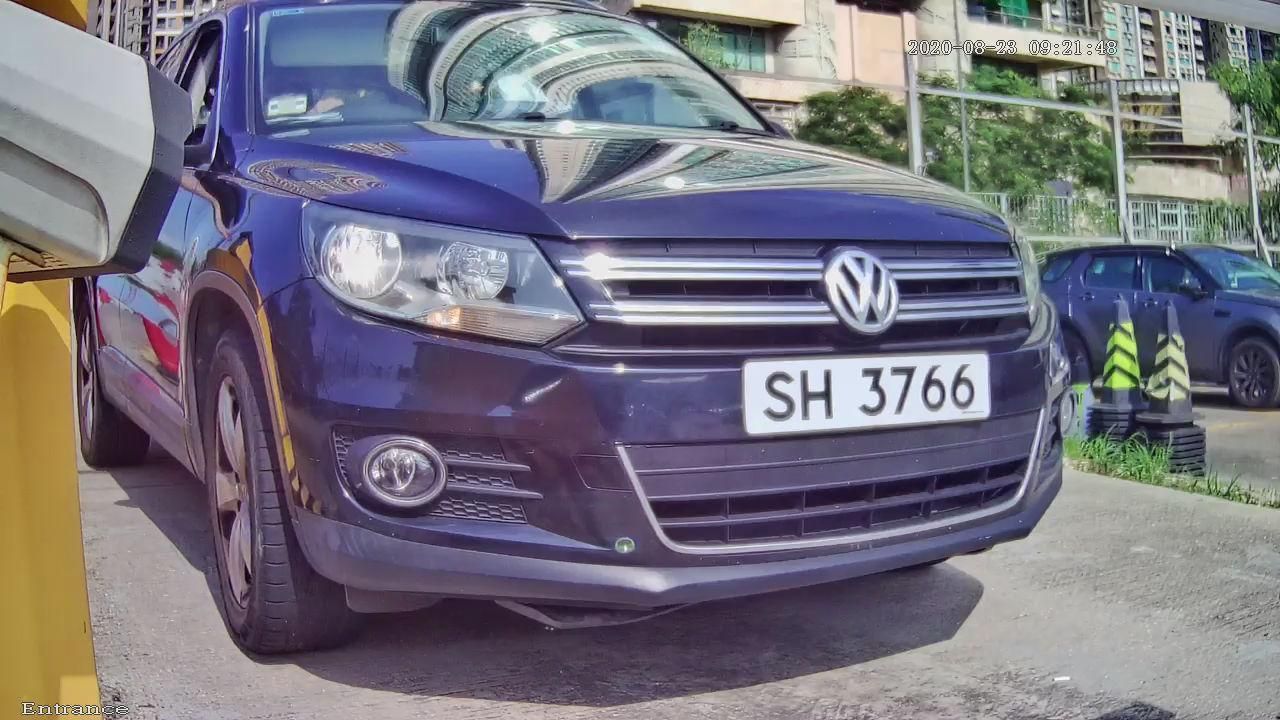Car: (81, 1, 1143, 676)
License Plate: (671, 308, 1019, 464)
